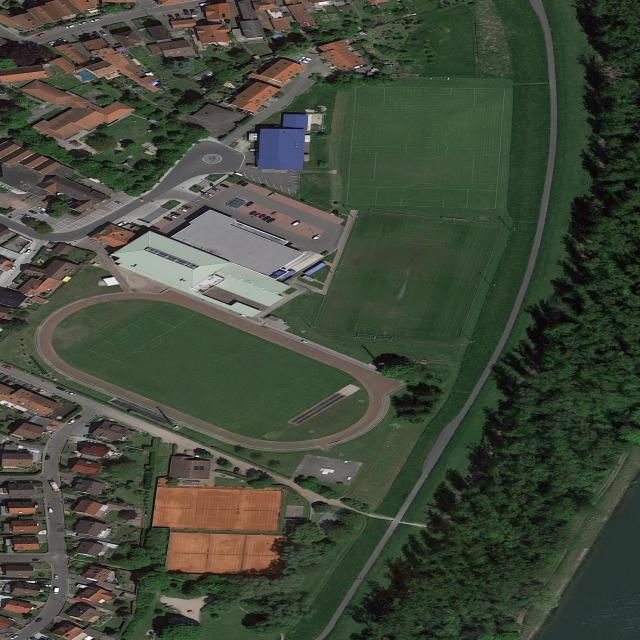large-vehicle: (47, 480, 61, 492)
small-vehicle: (301, 56, 314, 62), (161, 216, 174, 222), (267, 192, 279, 198), (113, 200, 125, 206), (116, 221, 128, 227), (55, 386, 66, 392), (291, 220, 302, 226), (311, 234, 322, 240), (72, 414, 83, 420), (39, 211, 50, 217), (244, 201, 255, 207), (149, 225, 162, 230), (166, 13, 175, 20), (92, 30, 101, 37), (321, 251, 331, 257), (199, 2, 211, 7), (66, 390, 76, 396), (66, 419, 76, 425), (298, 59, 310, 64), (205, 192, 217, 197), (8, 265, 18, 271), (21, 213, 33, 218), (98, 30, 108, 36), (353, 64, 365, 69), (181, 205, 193, 210), (169, 211, 181, 216), (53, 587, 60, 595), (168, 214, 179, 219), (36, 33, 47, 38), (235, 180, 246, 185), (219, 183, 230, 188), (37, 206, 48, 211), (174, 13, 183, 19), (34, 617, 43, 623), (86, 32, 95, 38), (178, 208, 188, 213), (78, 21, 88, 26), (266, 218, 276, 223), (48, 241, 58, 246), (10, 635, 20, 640), (235, 107, 245, 112), (183, 8, 190, 15), (64, 25, 76, 29), (89, 18, 101, 22), (233, 467, 241, 473), (262, 216, 271, 221), (240, 182, 249, 187), (24, 250, 33, 255), (2, 365, 11, 370), (100, 199, 109, 204), (243, 111, 254, 115), (30, 218, 41, 222), (271, 211, 279, 216), (259, 213, 267, 218), (248, 211, 258, 215), (48, 424, 58, 428), (27, 210, 37, 214), (40, 584, 52, 587), (212, 188, 221, 192), (48, 507, 54, 513), (190, 8, 196, 14), (254, 213, 262, 217), (44, 455, 50, 460), (32, 558, 42, 561), (53, 574, 59, 579)
